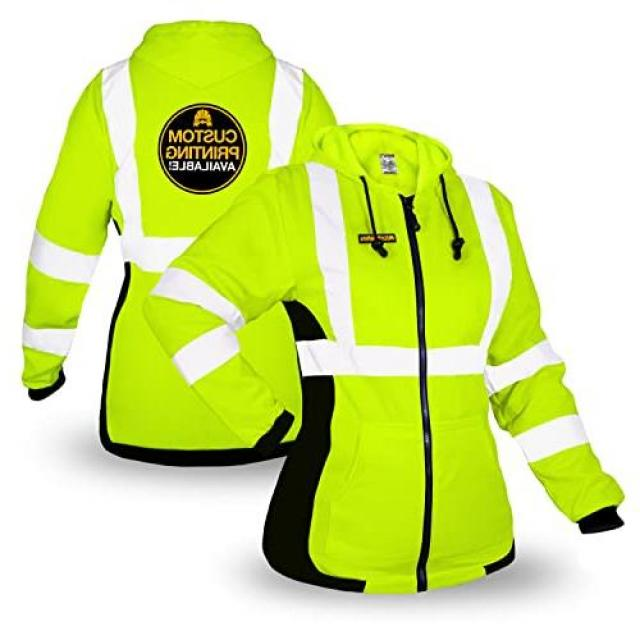Reflective-Jacket: (152, 118, 628, 598), (16, 13, 333, 486)
